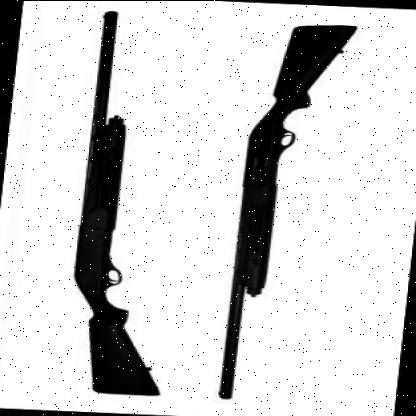rifle: (210, 19, 359, 407), (55, 11, 200, 393)
